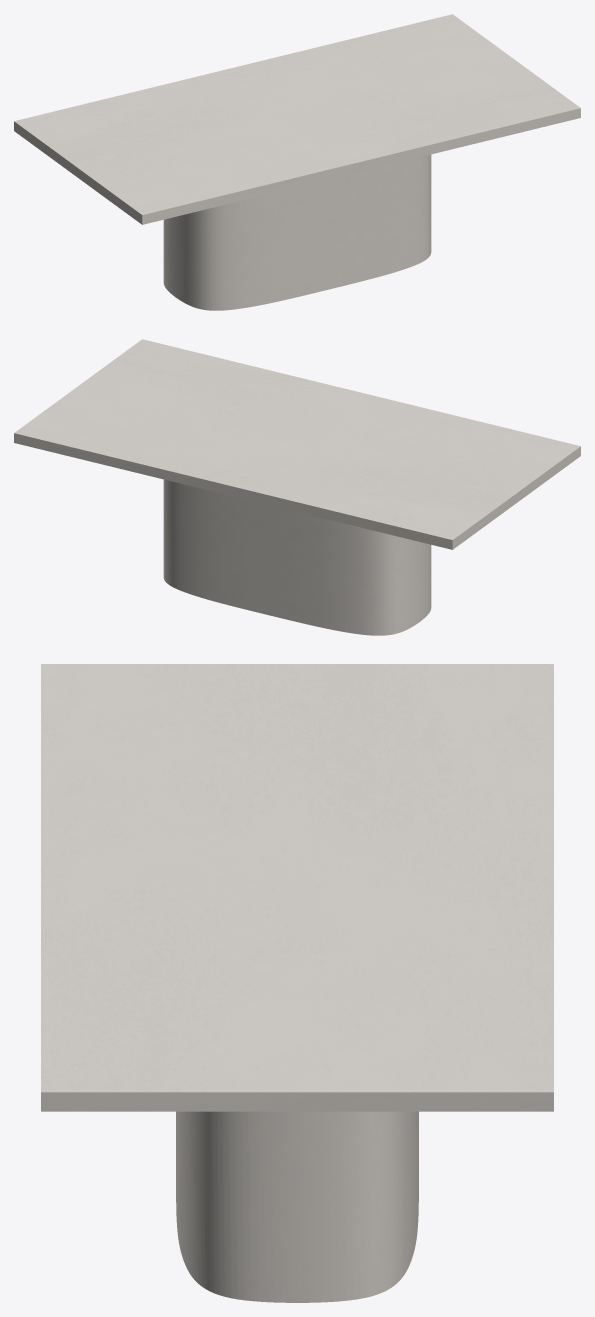
The model's file is pearlwhite_recta_standard_fixed.glb.
The picture shows the model from 3 angles, top to bottom: view 1: azimuth 30°, elevation 25°; view 2: azimuth 150°, elevation 25°; view 3: azimuth 270°, elevation 25°; orthographic projection. The views are drawn at different scales.
Visible parts, largest first — view 1: tabletop_recta_standard.018, tableleg_fixed.018; view 2: tabletop_recta_standard.018, tableleg_fixed.018; view 3: tabletop_recta_standard.018, tableleg_fixed.018.
Part boxes in pixels (left/top/right/bottom): tabletop_recta_standard.018: left=14, top=14, right=580, bottom=224; tableleg_fixed.018: left=163, top=154, right=431, bottom=310; tabletop_recta_standard.018: left=14, top=339, right=580, bottom=549; tableleg_fixed.018: left=163, top=479, right=431, bottom=635; tabletop_recta_standard.018: left=41, top=664, right=553, bottom=1111; tableleg_fixed.018: left=176, top=1111, right=418, bottom=1302.
Bounding box in the file's own units: 7.5 × 2.5 × 3.8.
Materials: 1 (1 with a texture image).
